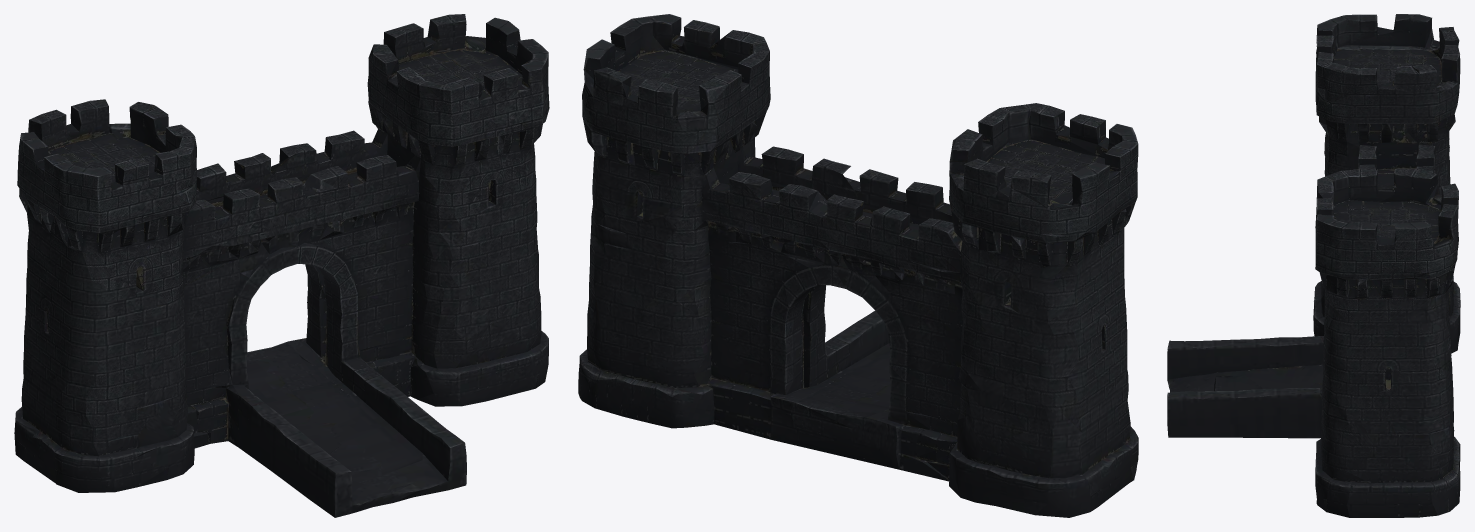
The model's file is inner_gate.glb.
3 renders of one model, left to right at view 1: azimuth 30°, elevation 25°; view 2: azimuth 150°, elevation 25°; view 3: azimuth 270°, elevation 25°, orthographic. The views are drawn at different scales.
Parts seen in each view (by area): view 1: output_unwrapped; view 2: output_unwrapped; view 3: output_unwrapped.
Part boxes in pixels (<box>): output_unwrapped: <box>14,14,549,517</box>; output_unwrapped: <box>578,14,1138,517</box>; output_unwrapped: <box>1167,14,1460,517</box>.
Size of the model in its own units: 1.9 by 1.2 by 1.09.
Materials: 1 (1 with a texture image).
